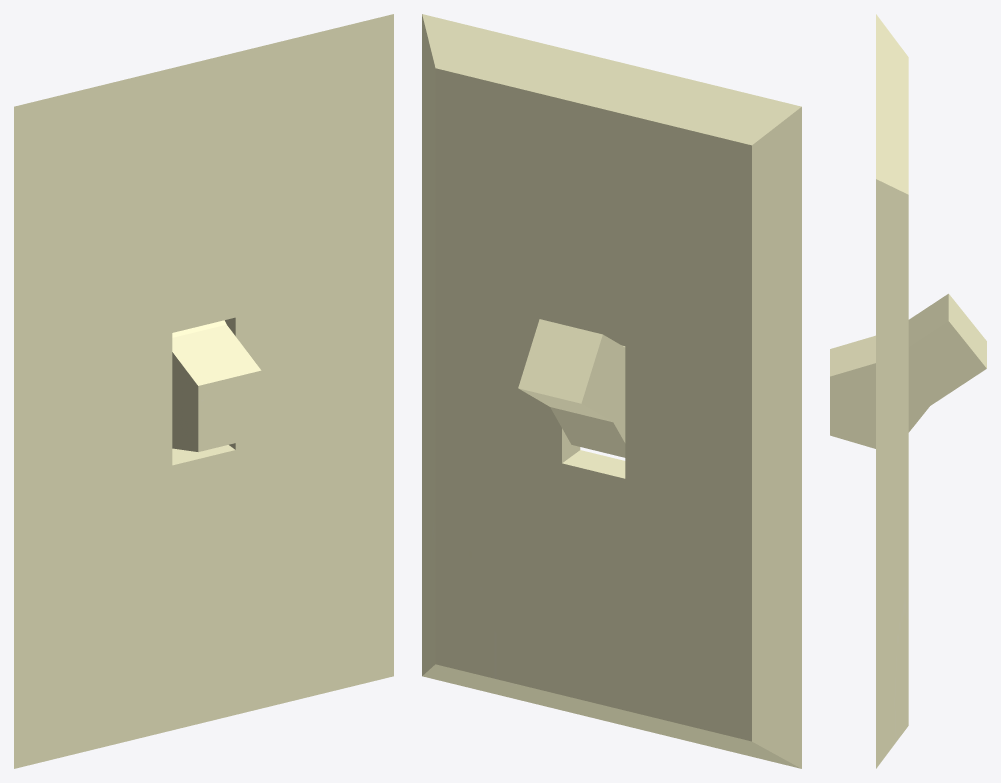
Rendered from Lightswitch.fbx.
3 views of the same model, side by side, from view 1: azimuth 30°, elevation 25°; view 2: azimuth 150°, elevation 25°; view 3: azimuth 270°, elevation 25° (orthographic). The views are drawn at different scales.
Visible parts, largest first — view 1: Lightswitch_Panel, Cylinder; view 2: Lightswitch_Panel, Cylinder; view 3: Lightswitch_Panel, Cylinder.
Boxes of the visible parts, x1=… form: Lightswitch_Panel: x1=14, y1=14, x2=393, y2=768; Cylinder: x1=172, y1=320, x2=261, y2=451; Lightswitch_Panel: x1=422, y1=14, x2=801, y2=768; Cylinder: x1=518, y1=319, x2=625, y2=457; Lightswitch_Panel: x1=876, y1=14, x2=908, y2=768; Cylinder: x1=830, y1=293, x2=986, y2=448.
Bounding box in the file's own units: 16.8 × 28 × 6.75.
2 materials, 2 textured.
